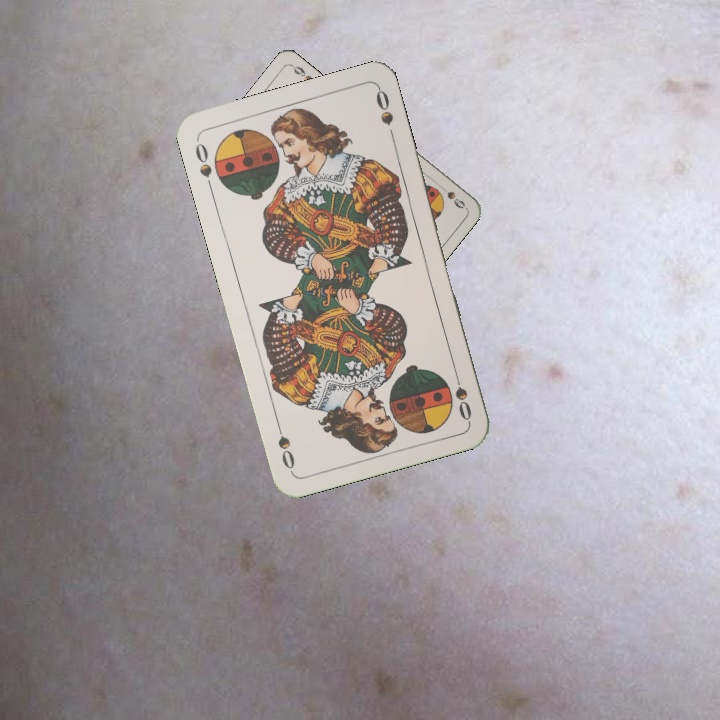S9: (434, 180, 468, 211)
SO: (449, 365, 474, 423), (191, 136, 216, 194)
